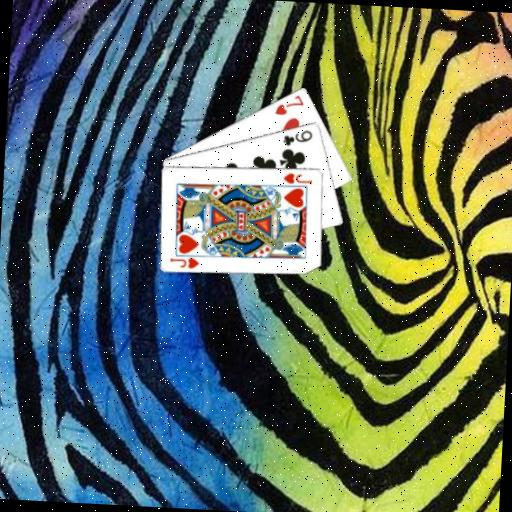7H: (271, 91, 306, 118)
9C: (280, 126, 315, 149)
JH: (281, 169, 314, 186), (167, 253, 200, 270)
